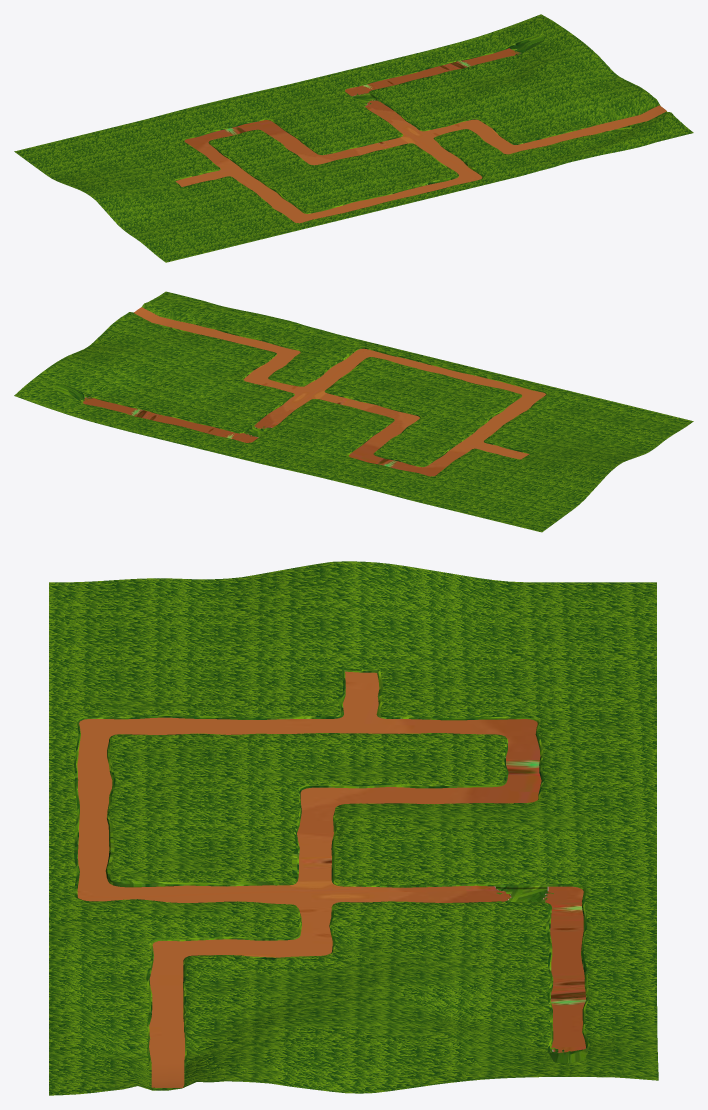
Rendered from lvl (3).fbx.
3 renders of one model, top to bottom at view 1: azimuth 30°, elevation 25°; view 2: azimuth 150°, elevation 25°; view 3: azimuth 270°, elevation 25°, orthographic. The views are drawn at different scales.
Parts seen in each view (by area): view 1: Earz; view 2: Earz; view 3: Earz.
Part boxes in pixels (left/top/right/bottom): Earz: left=14, top=14, right=693, bottom=262; Earz: left=14, top=291, right=693, bottom=532; Earz: left=49, top=561, right=658, bottom=1095.
Bounding box in the file's own units: 40171 × 1194 × 20038.
2 materials, 2 textured.
